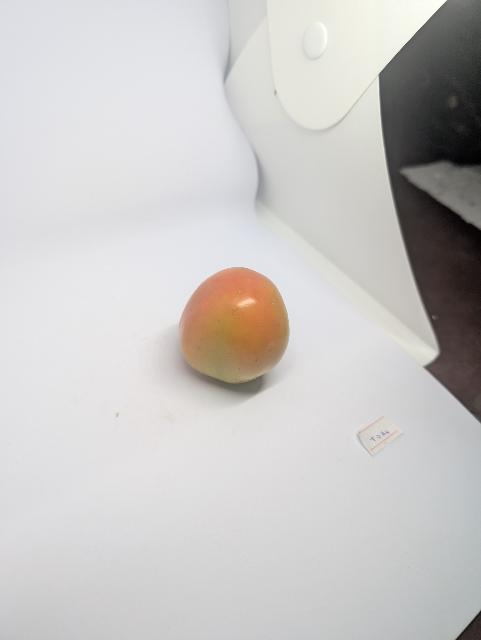turning: (170, 258, 303, 398)
